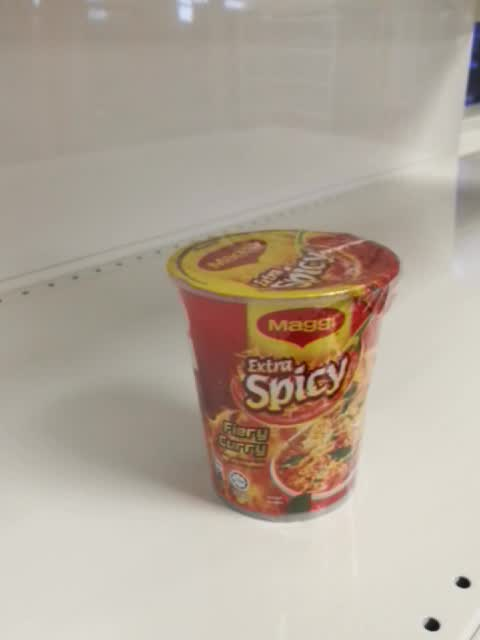maggi: (164, 228, 402, 525)
